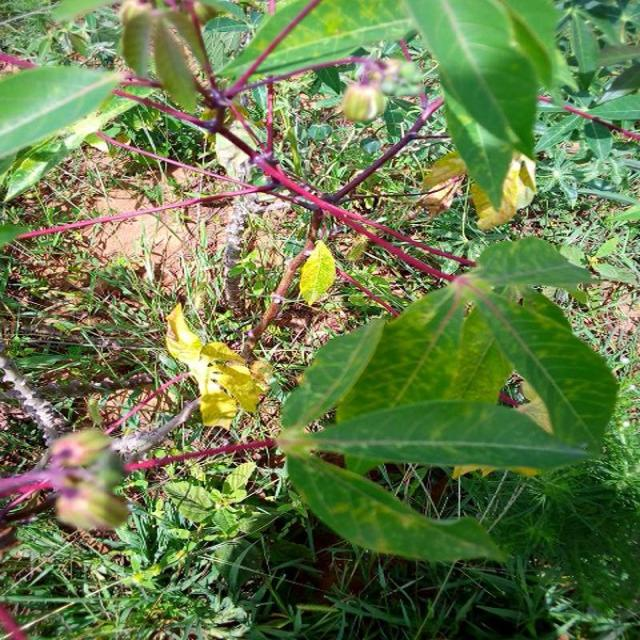cassava leaf: (319, 272, 620, 477), (165, 302, 269, 430)
